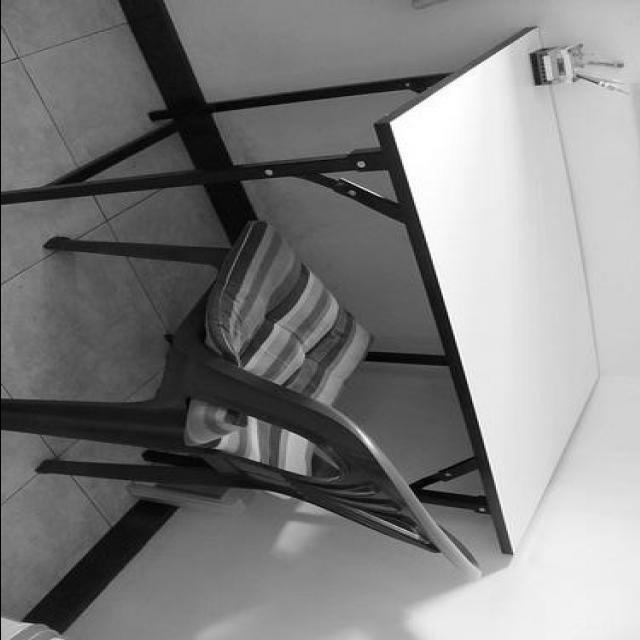chair: (6, 231, 486, 581)
table: (2, 25, 606, 557)
